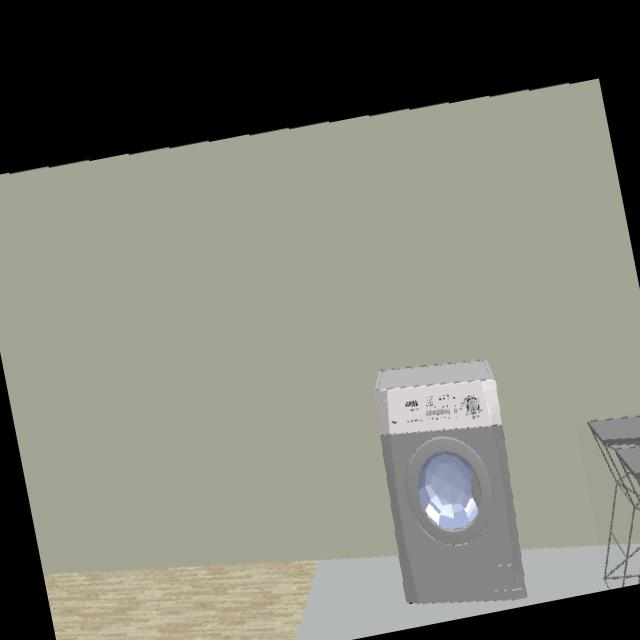chair: (589, 416, 640, 585)
